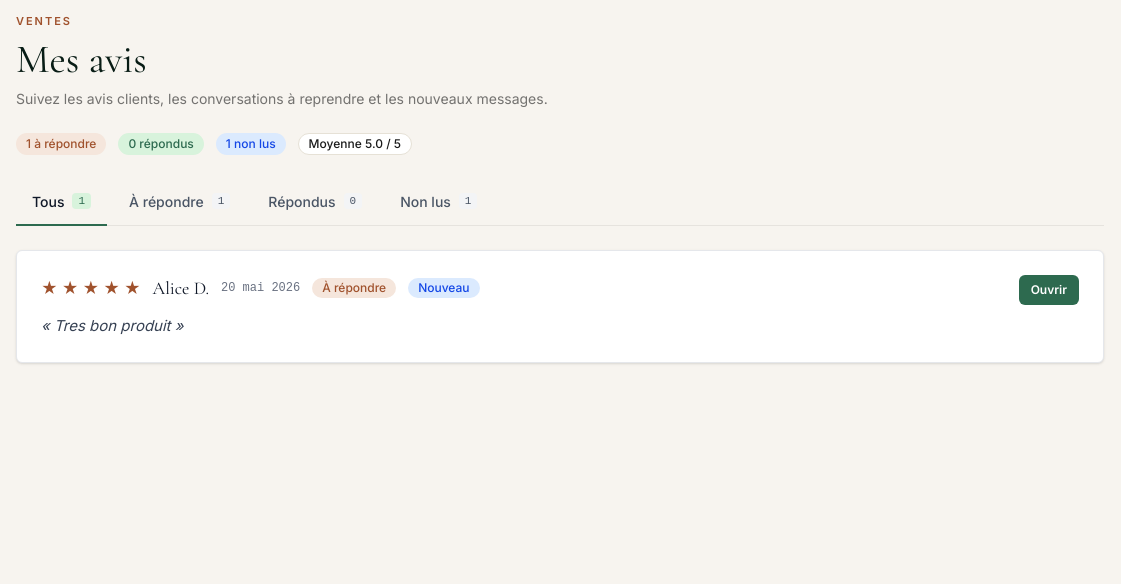
Test: AvisClient › ouvre une conversation et marque Nouveau comme lu
The width and height of the screenshot is (1121, 584).
Click the button "Ouvrir".
click(1049, 290)  # box [1019, 274, 1079, 304]
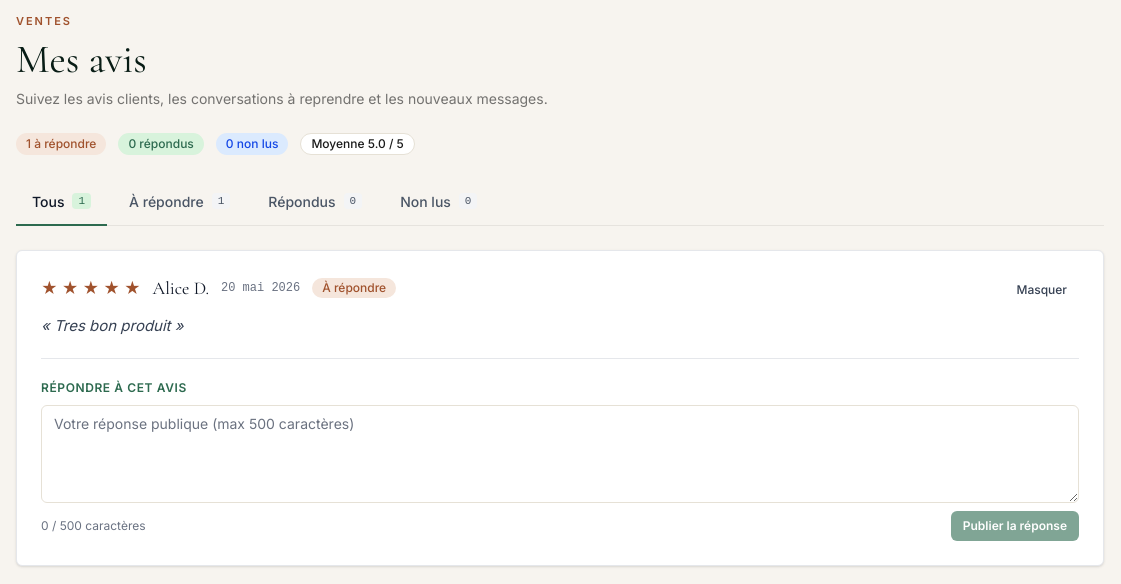
Expected: the text "Nouveau" is not shown
Expected: the text "Répondre à cet avis" is shown, [41, 380, 187, 395]
